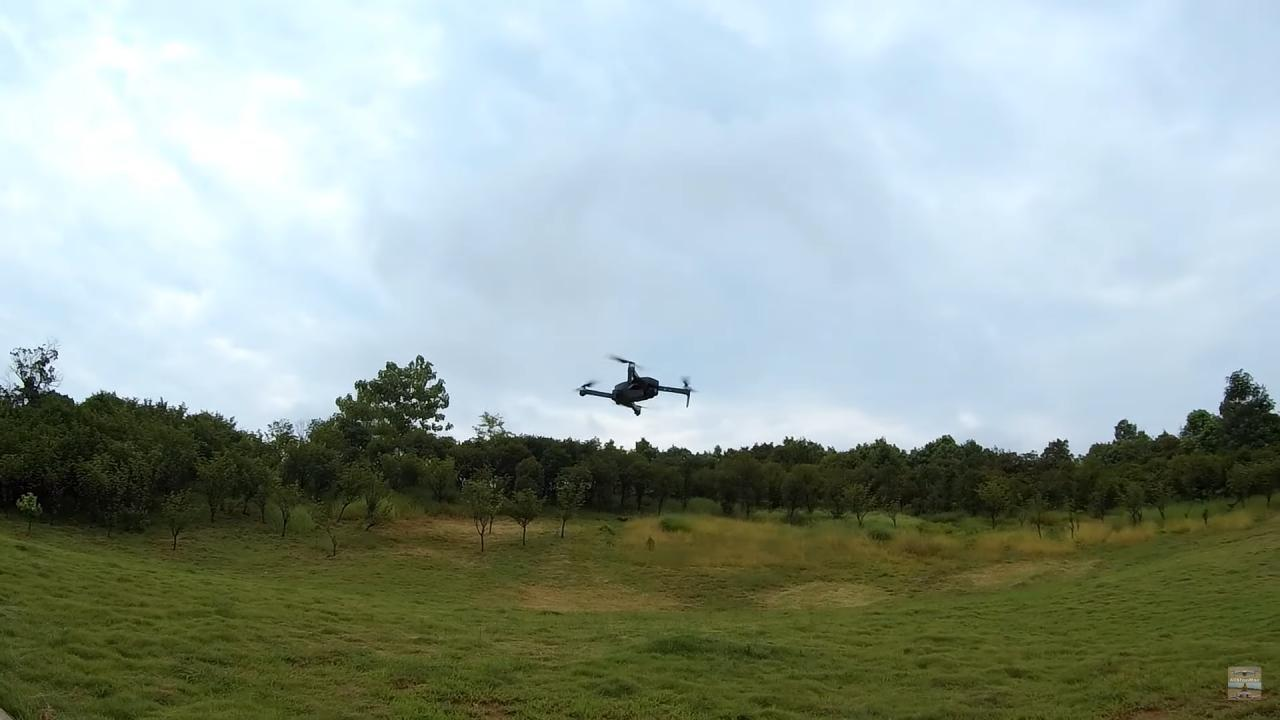Drone: (565, 342, 700, 429)
